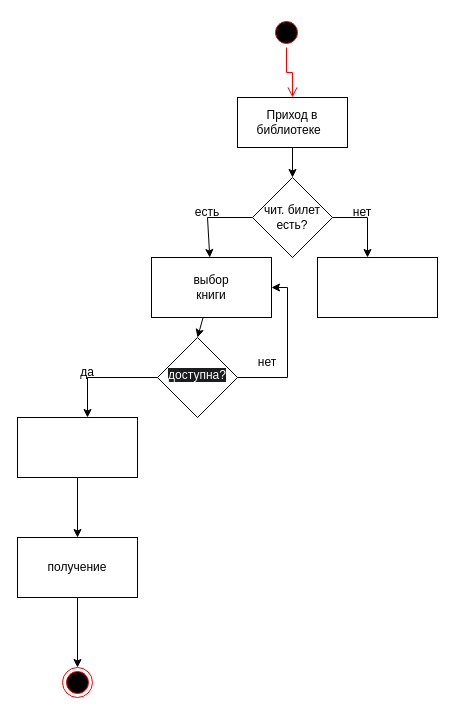
Some shapes in this 455 by 715 pixel diagram are drawn without their labels. The centre of each missing label's shape, as x and y in pixels:
оформление билета: [377,287]
регистрируем выдачу: [77,447]
